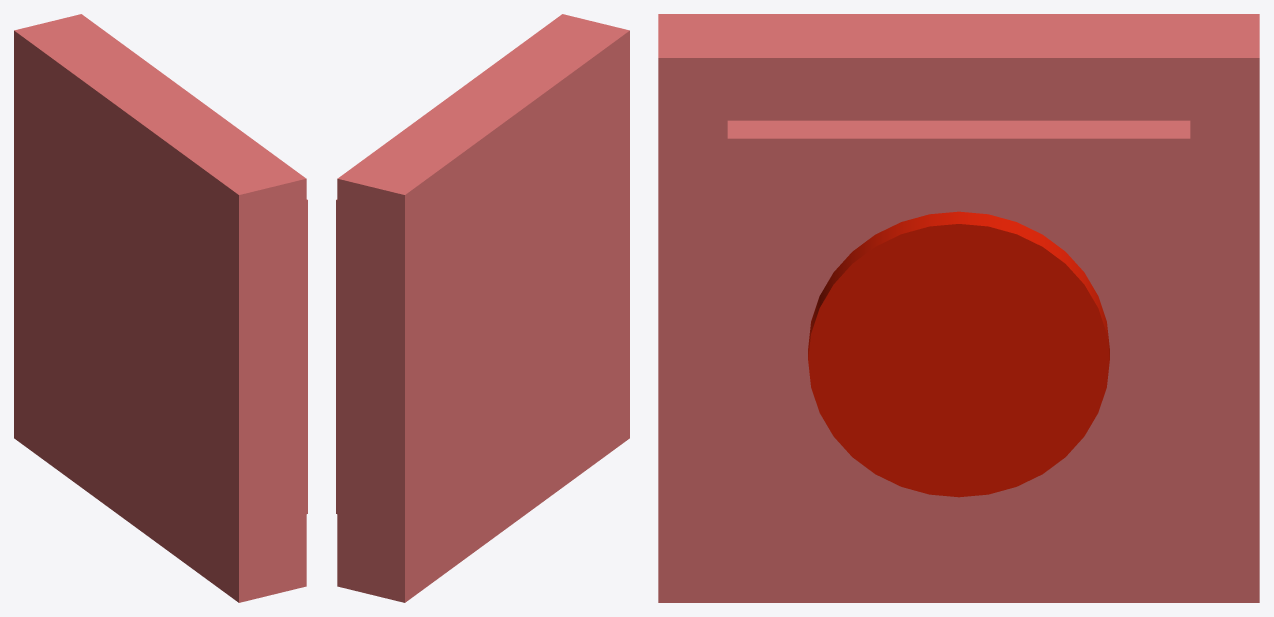
The model's file is Knopf 1.fbx.
The picture shows the model from 3 angles, left to right: view 1: azimuth 30°, elevation 25°; view 2: azimuth 150°, elevation 25°; view 3: azimuth 270°, elevation 25°; orthographic projection. The views are drawn at different scales.
Parts seen in each view (by area): view 1: Cube; view 2: Cube; view 3: Cube, Cylinder.
Part boxes in pixels (left/top/right/bottom): Cube: left=14, top=14, right=307, bottom=602; Cube: left=336, top=14, right=629, bottom=602; Cube: left=658, top=14, right=1259, bottom=602; Cylinder: left=808, top=211, right=1109, bottom=497.
Size of the model in its own units: 116 by 399 by 399.
